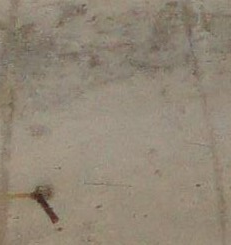Exposed reinforcement: (36, 193, 60, 224)
